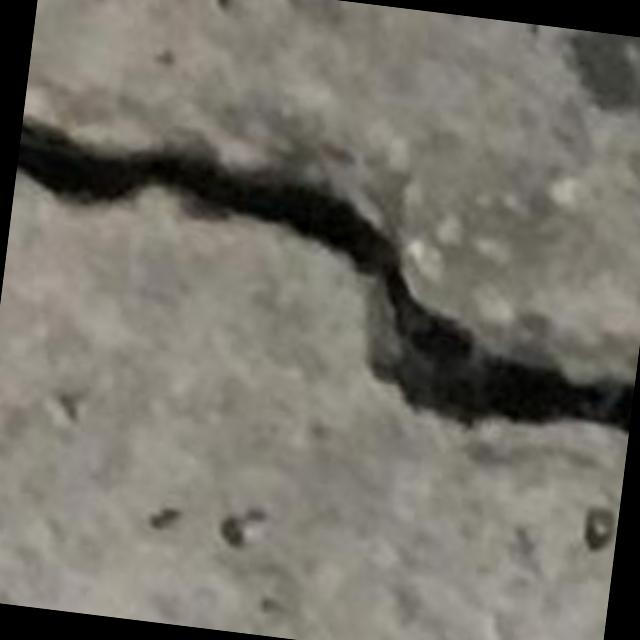crack: (17, 118, 635, 435)
